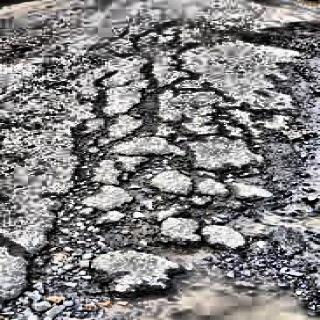alligator-crack: (4, 16, 318, 320)
